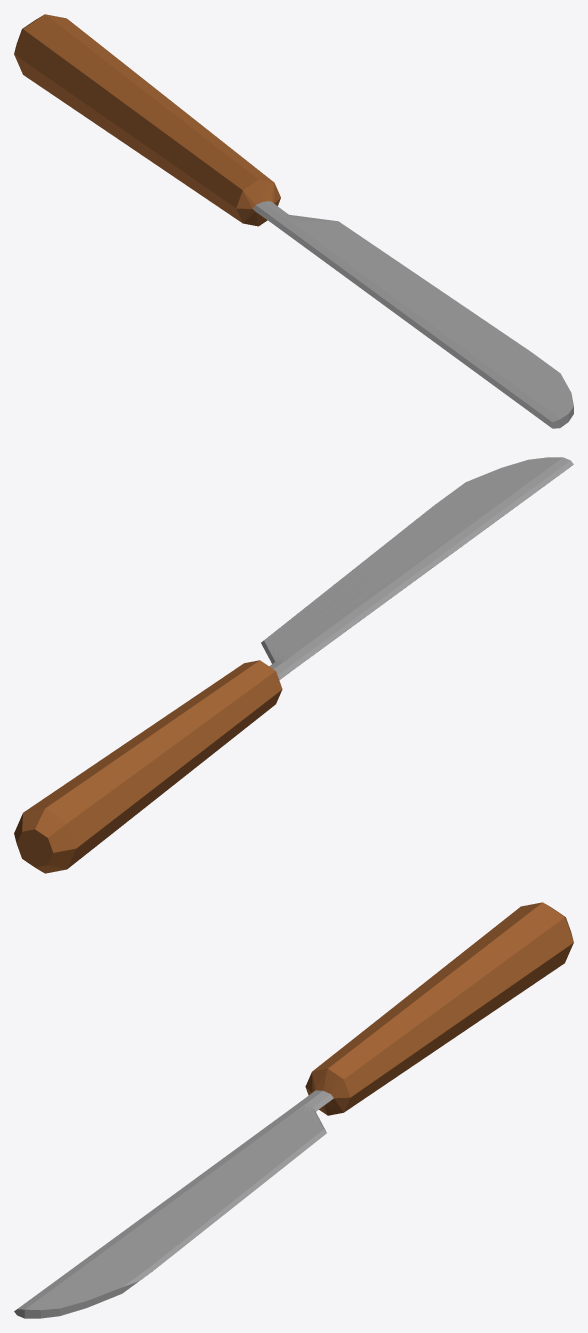
File: SFI_Cutlery_003.fbx
The picture shows the model from 3 angles, top to bottom: view 1: azimuth 30°, elevation 25°; view 2: azimuth 150°, elevation 25°; view 3: azimuth 330°, elevation 25°; orthographic projection.
Parts seen in each view (by area): view 1: SFI_Cutlery_003; view 2: SFI_Cutlery_003; view 3: SFI_Cutlery_003.
Boxes of the visible parts, x1=… form: SFI_Cutlery_003: x1=14, y1=14, x2=573, y2=428; SFI_Cutlery_003: x1=14, y1=457, x2=573, y2=873; SFI_Cutlery_003: x1=14, y1=902, x2=573, y2=1318.
Bounding box in the file's own units: 2.29 × 1.72 × 25.22.
